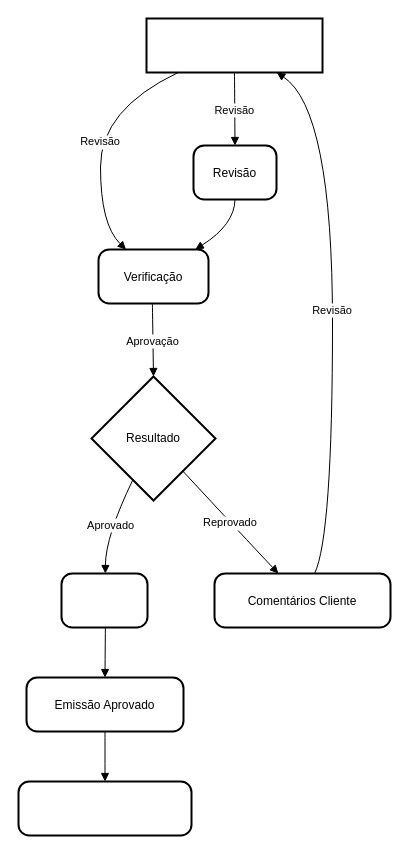
Image size: 408x853. Some labels were removed from this diagram. Each missing label, with the centre of its shape:
Emissão: pixel 104 600
Postagem Concluída: pixel 104 808
Postagem Inicial: pixel 234 45
